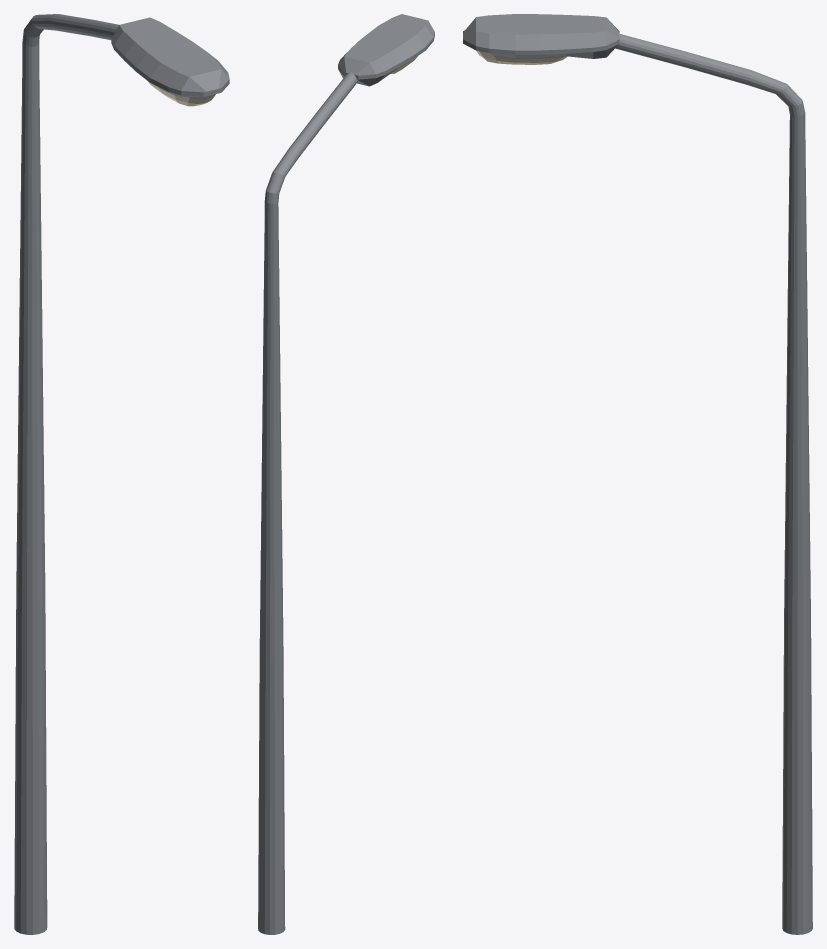
File: streetlight.glb
3 views of the same model, side by side, from view 1: azimuth 30°, elevation 25°; view 2: azimuth 150°, elevation 25°; view 3: azimuth 270°, elevation 25° (orthographic). The views are drawn at different scales.
Parts seen in each view (by area): view 1: pole; view 2: pole; view 3: pole.
Boxes of the visible parts, left/top/right/bottom form: pole: left=14, top=14, right=229, bottom=934; pole: left=258, top=14, right=434, bottom=934; pole: left=463, top=14, right=812, bottom=934.
Size of the model in its own units: 0.6811 by 9.31 by 3.26.
